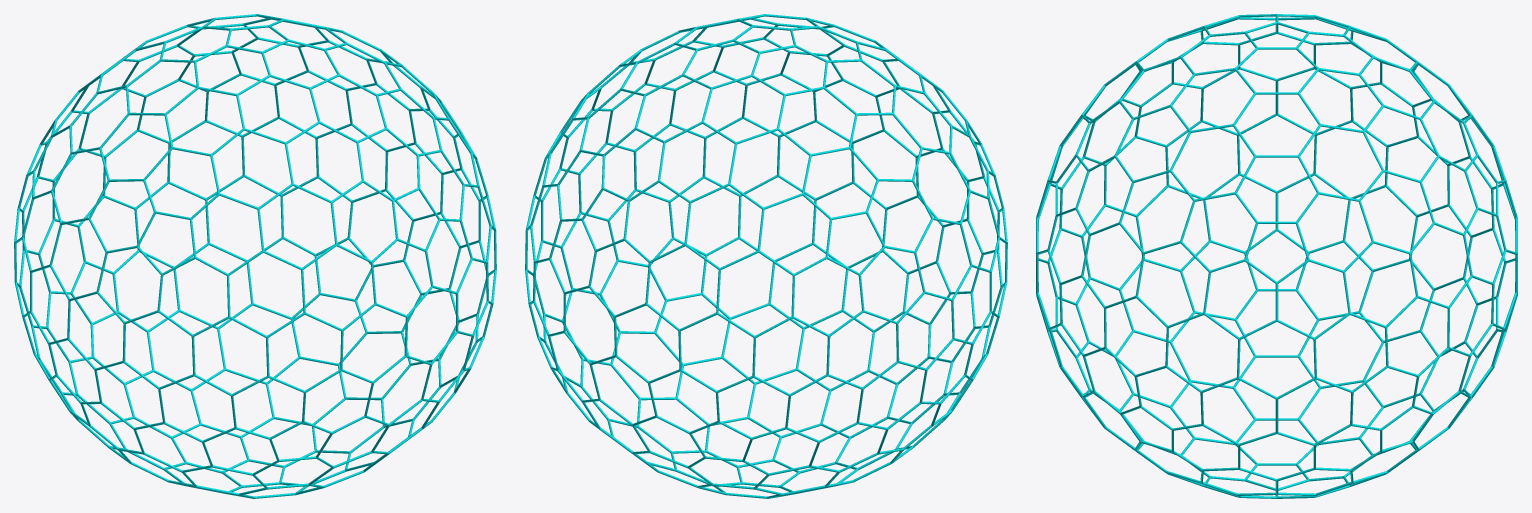
The model's file is Escudo Forca.fbx.
3 renders of one model, left to right at view 1: azimuth 30°, elevation 25°; view 2: azimuth 150°, elevation 25°; view 3: azimuth 270°, elevation 25°, orthographic.
Parts seen in each view (by area): view 1: Plane.001; view 2: Plane.001; view 3: Plane.001.
Boxes of the visible parts, left/top/right/bottom form: Plane.001: left=14, top=14, right=496, bottom=498; Plane.001: left=525, top=14, right=1007, bottom=498; Plane.001: left=1036, top=14, right=1517, bottom=498.
Size of the model in its own units: 708 by 713 by 706.
